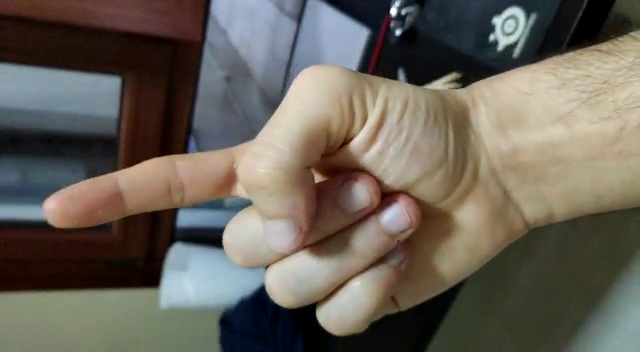One: (38, 130, 298, 243)
